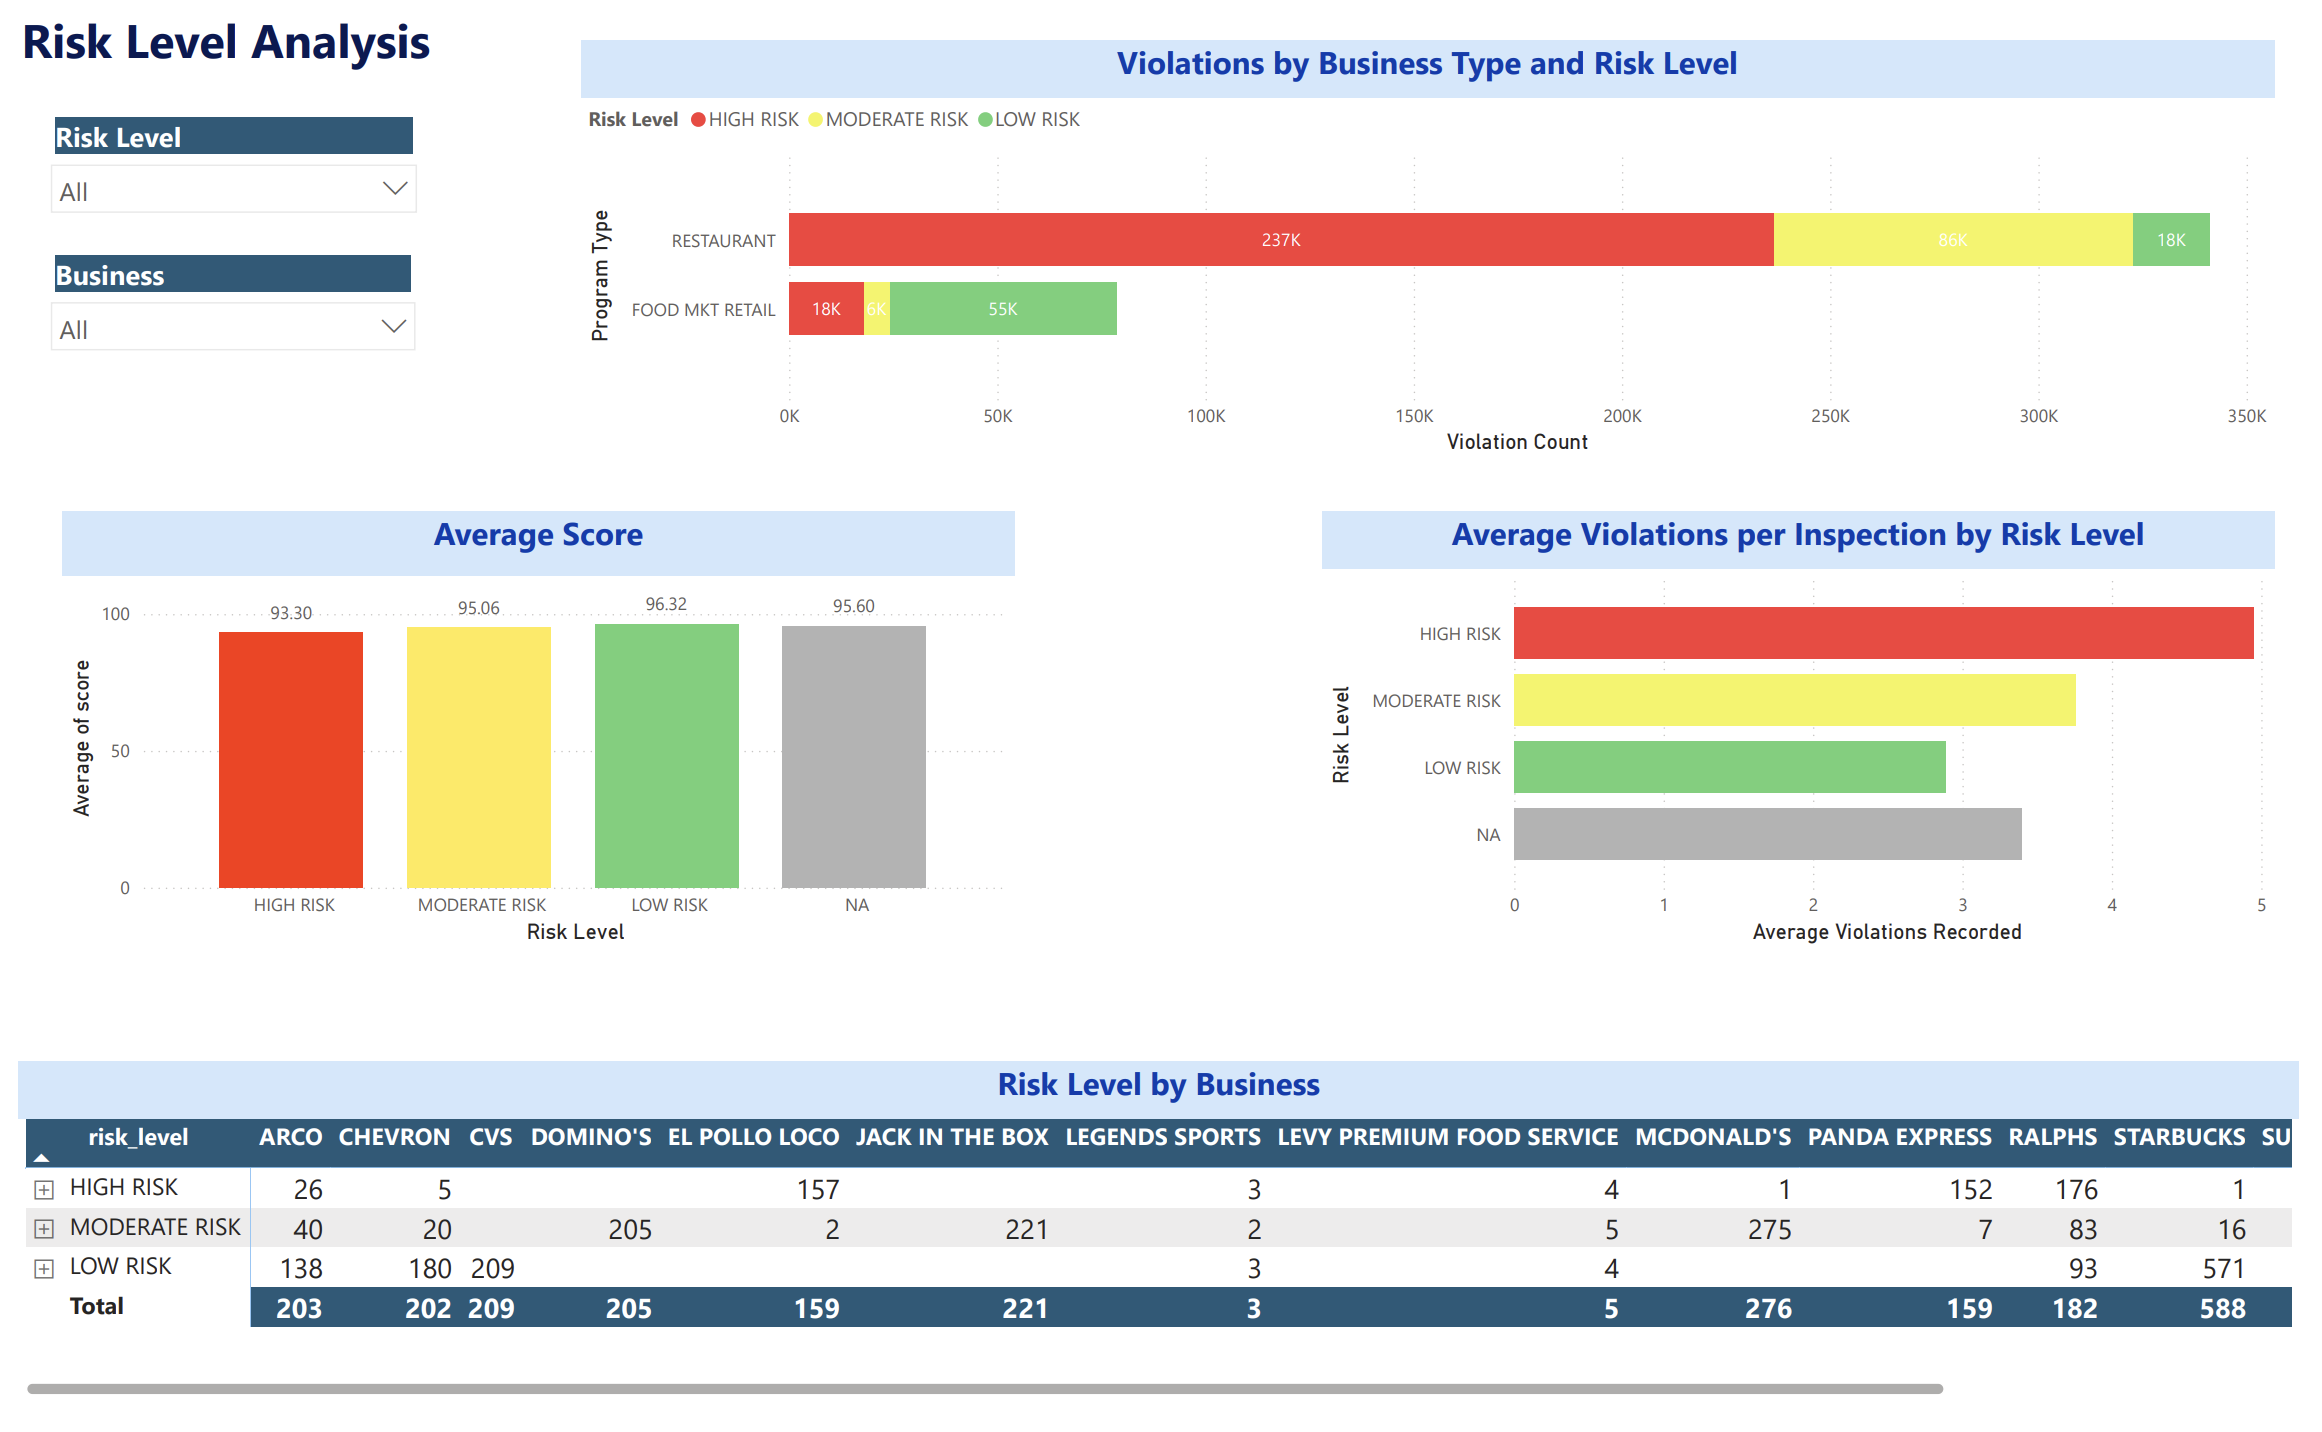

What the dashboard file says about the page in this screenshot:
{"tool":"powerbi","page":{"name":"Risk Level Analysis","canvas":[1600,1000],"ordinal":3},"visuals":[{"type":"columnChart","title":"Average Score","fields":{"Category":["inspections_clean.risk_level"],"Y":["Avg(inspections_clean.score)"]},"box":[46,350,650,300],"z":0},{"type":"pivotTable","title":"Risk Level by Business","fields":{"Rows":["inspections_clean.risk_level","inspections_clean.facility_city","inspections_clean.facility_name"],"Columns":["inspections_clean.ParentCompanyClean"],"Values":["Count(inspections_clean.facility_id)"]},"box":[16,726,1557.1,232.7],"z":1000},{"type":"slicer","fields":{"Values":["inspections_clean.risk_level"]},"box":[28.4,76.1,269.4,74.2],"z":2000},{"type":"textbox","box":[12.5,0,317,54.5],"z":3000},{"type":"slicer","fields":{"Values":["inspections_clean.parent_company_clean"]},"box":[28,170,269.1,82.4],"z":4000},{"type":"barChart","title":"Violations by Business Type and Risk Level","fields":{"Category":["inspections_clean.program_type"],"Y":["inspections_clean.violation_count"],"Series":["inspections_clean.risk_level"]},"box":[400,28,1156,288],"z":5000},{"type":"clusteredBarChart","title":"Average Violations per Inspection by Risk Level","fields":{"Category":["inspections_clean.risk_level"],"Y":["inspections_clean.AvgViolationsPerInspections"]},"box":[906,350,650,300],"z":6000}]}

Visuals, with their boxes in screenshot pixels (x1, y1, x2, y2), scaled from the page's 1600x1000 canvas onto the 2322x1432 screenshot:
"Average Score" columnChart: 67,501,1010,931
"Risk Level by Business" pivotTable: 23,1040,2283,1373
slicer - inspections_clean.risk_level: 41,109,432,215
textbox: 18,0,478,78
slicer - inspections_clean.parent_company_clean: 41,243,431,361
"Violations by Business Type and Risk Level" barChart: 580,40,2258,453
"Average Violations per Inspection by Risk Level" clusteredBarChart: 1315,501,2258,931
